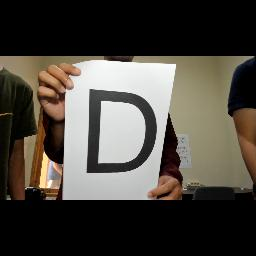d: (82, 85, 160, 179)
